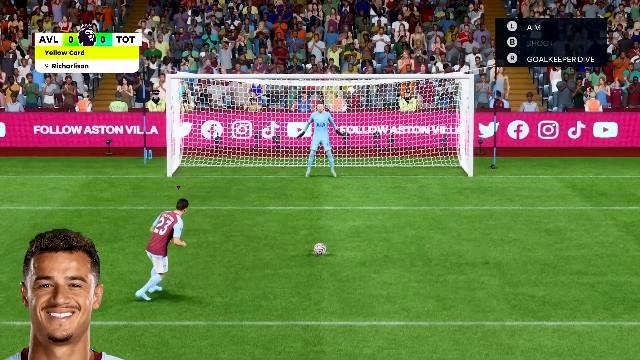bottom-left: (178, 132, 270, 180)
bottom-right: (365, 130, 463, 178)
center-down: (272, 131, 362, 179)
center-up: (273, 84, 363, 128)
football: (314, 243, 328, 255)
goalkeeper: (298, 108, 338, 180)
player: (134, 194, 198, 308)
top-left: (177, 84, 269, 130)
top-right: (365, 84, 463, 128)
